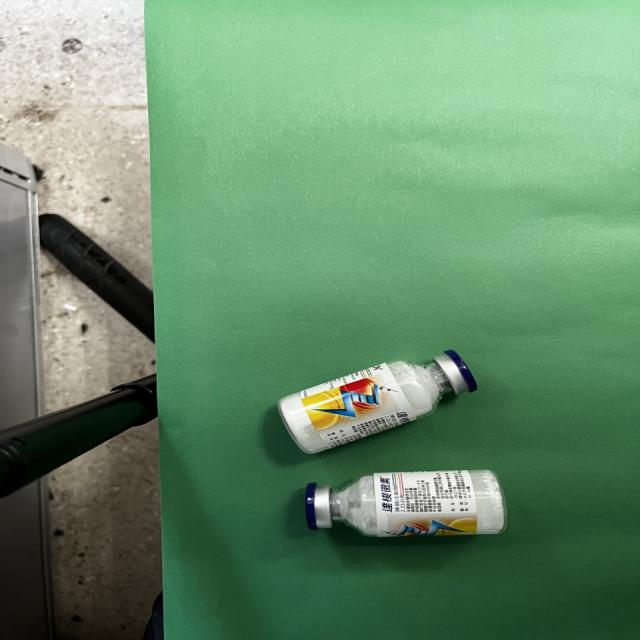Vials: (277, 350, 480, 456), (305, 470, 508, 539)
